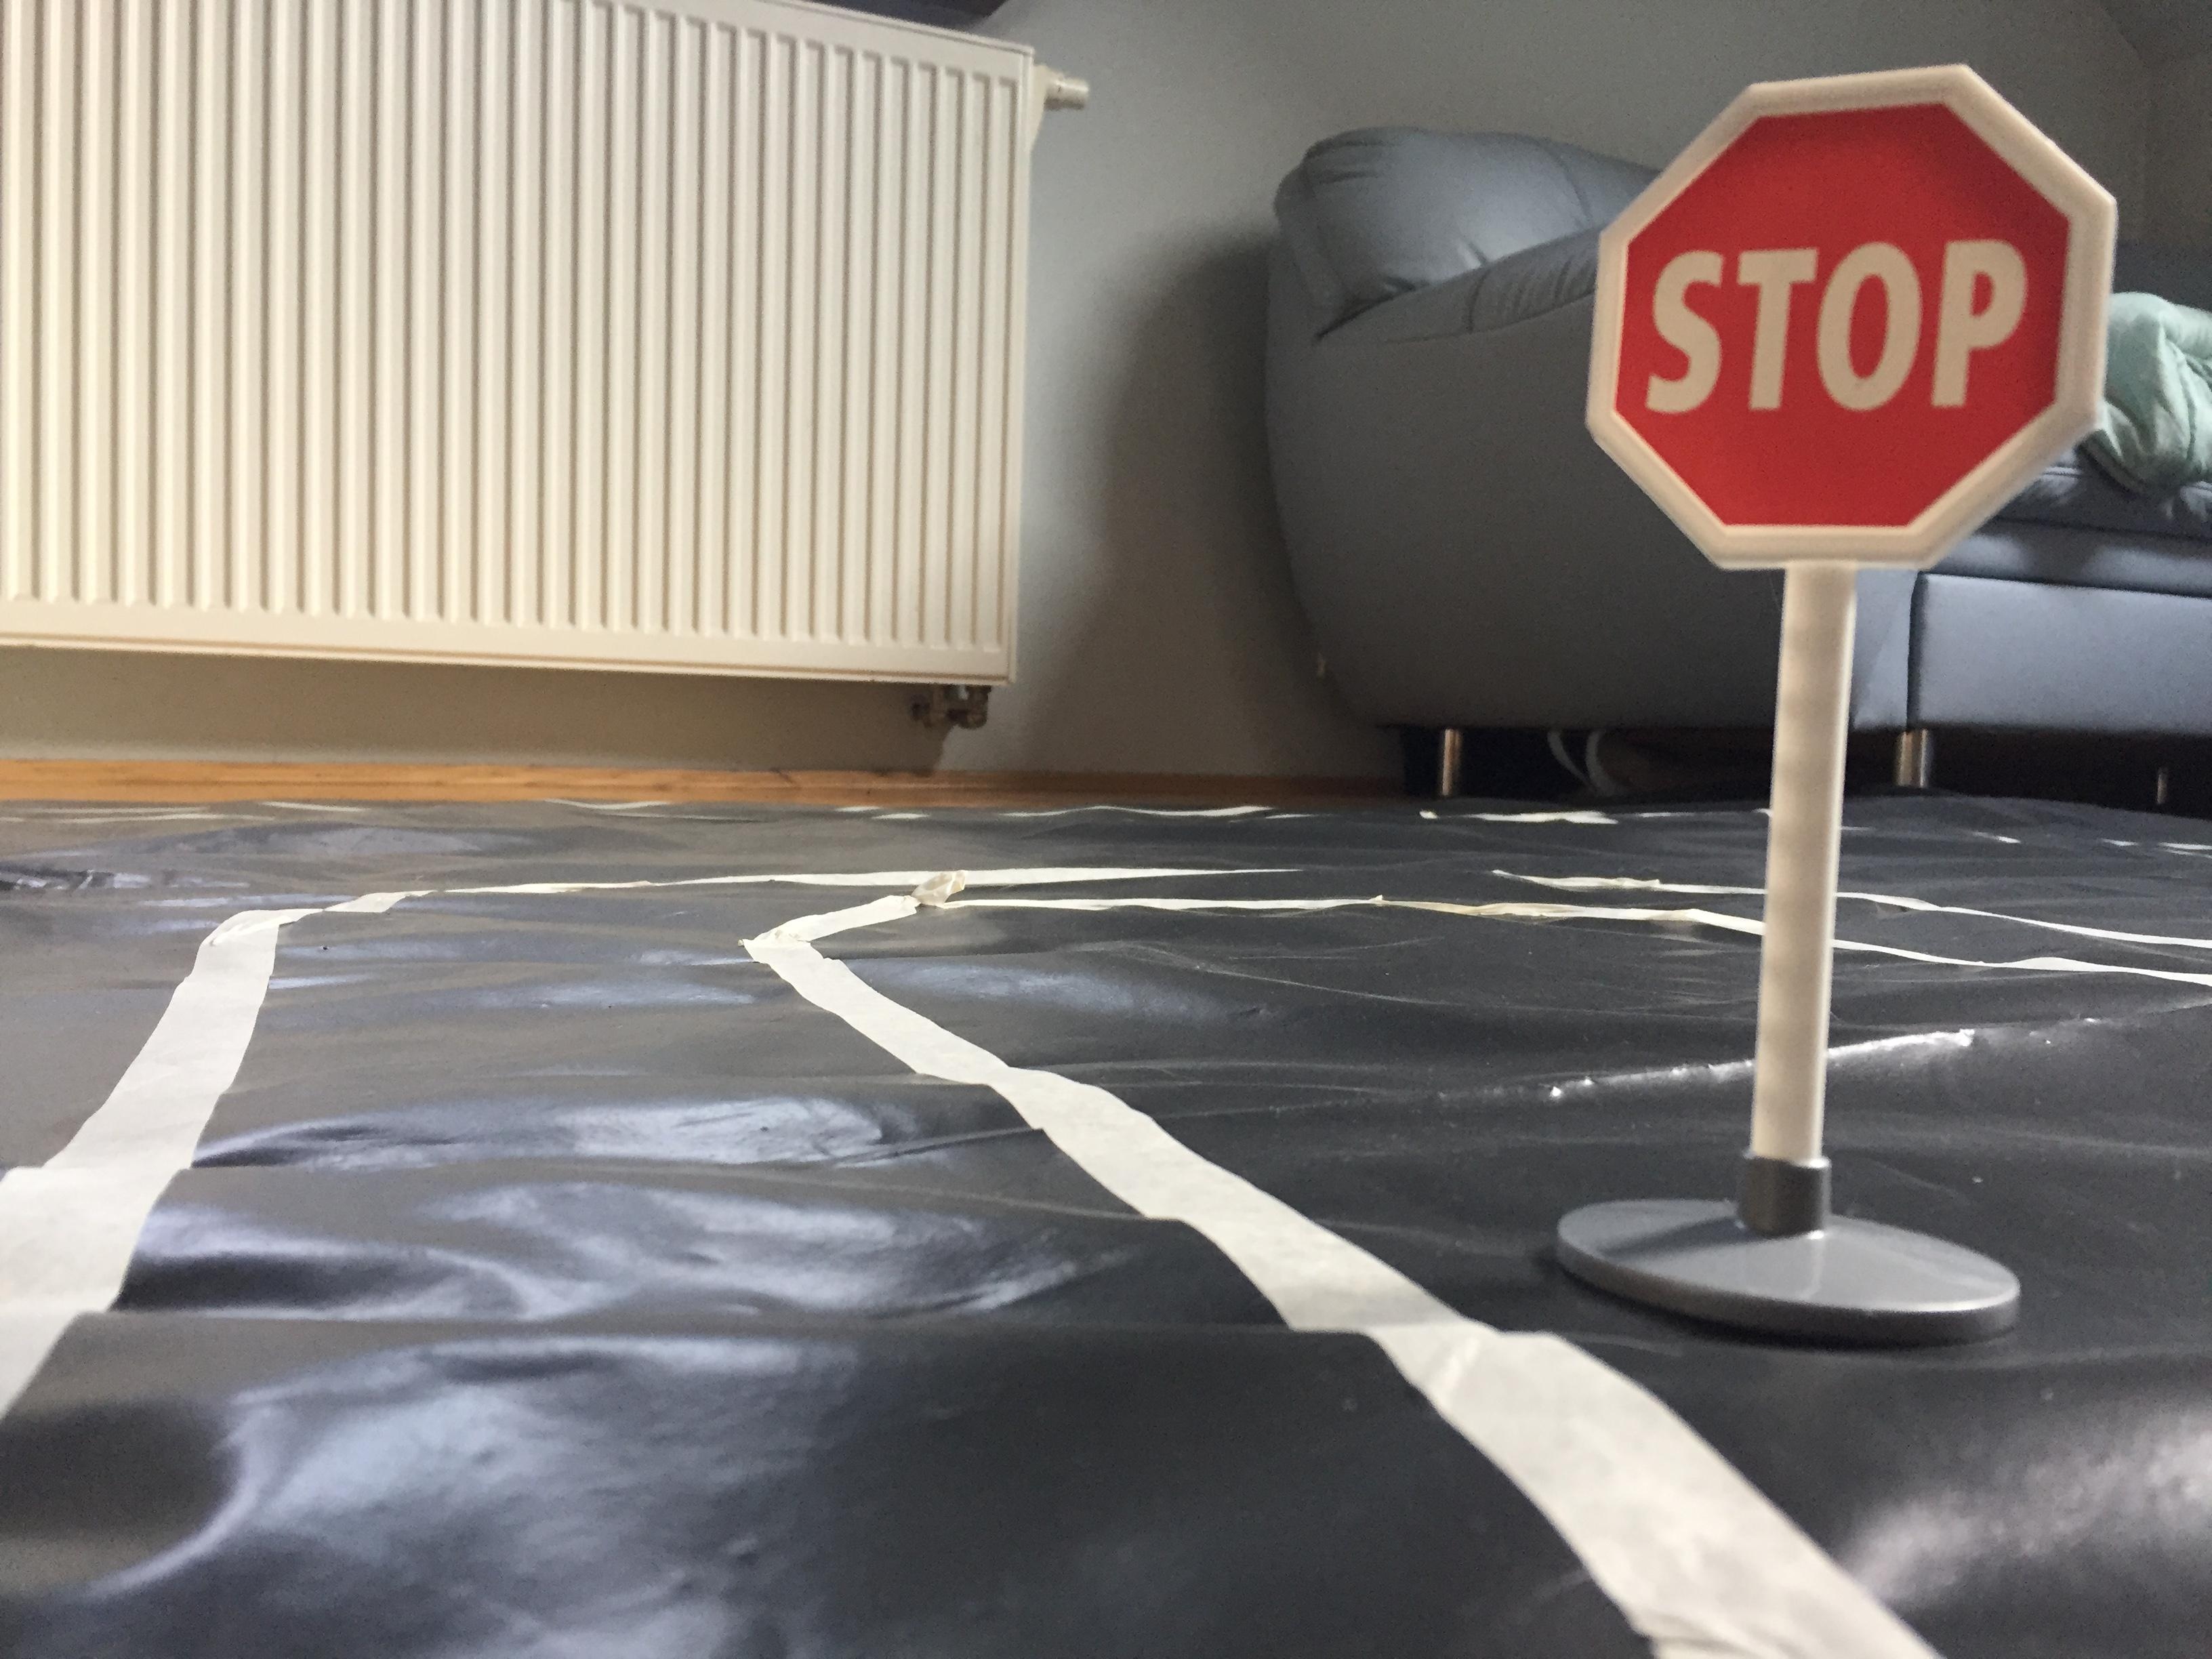stop: (1561, 56, 2137, 598)
